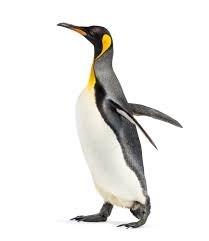Walking: (33, 6, 195, 229)
